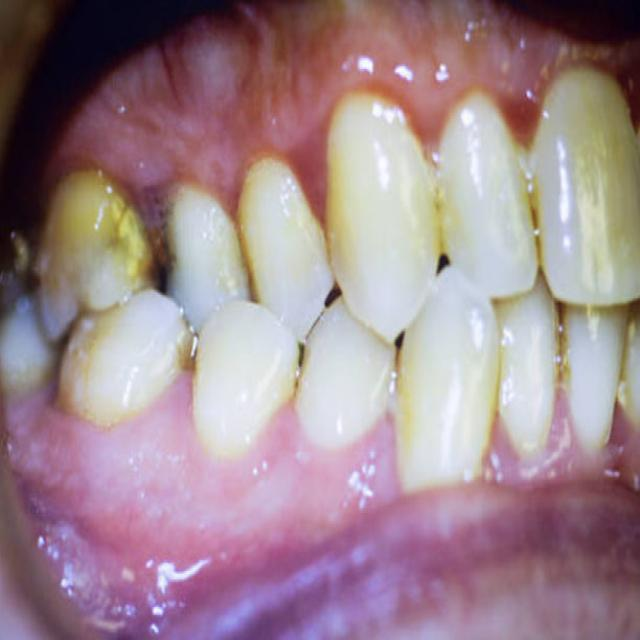caries: (150, 192, 193, 298)
